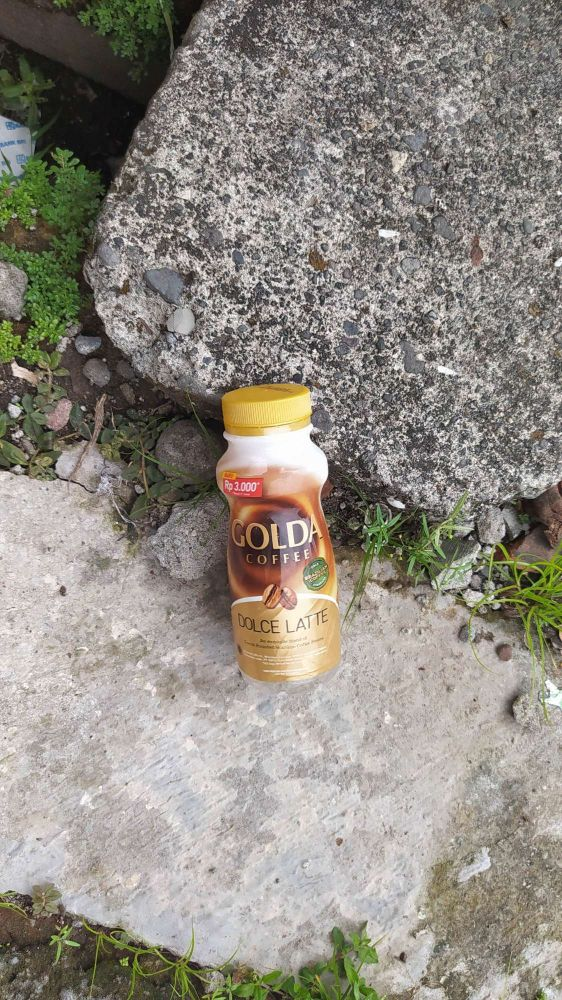botol: (176, 378, 354, 701)
